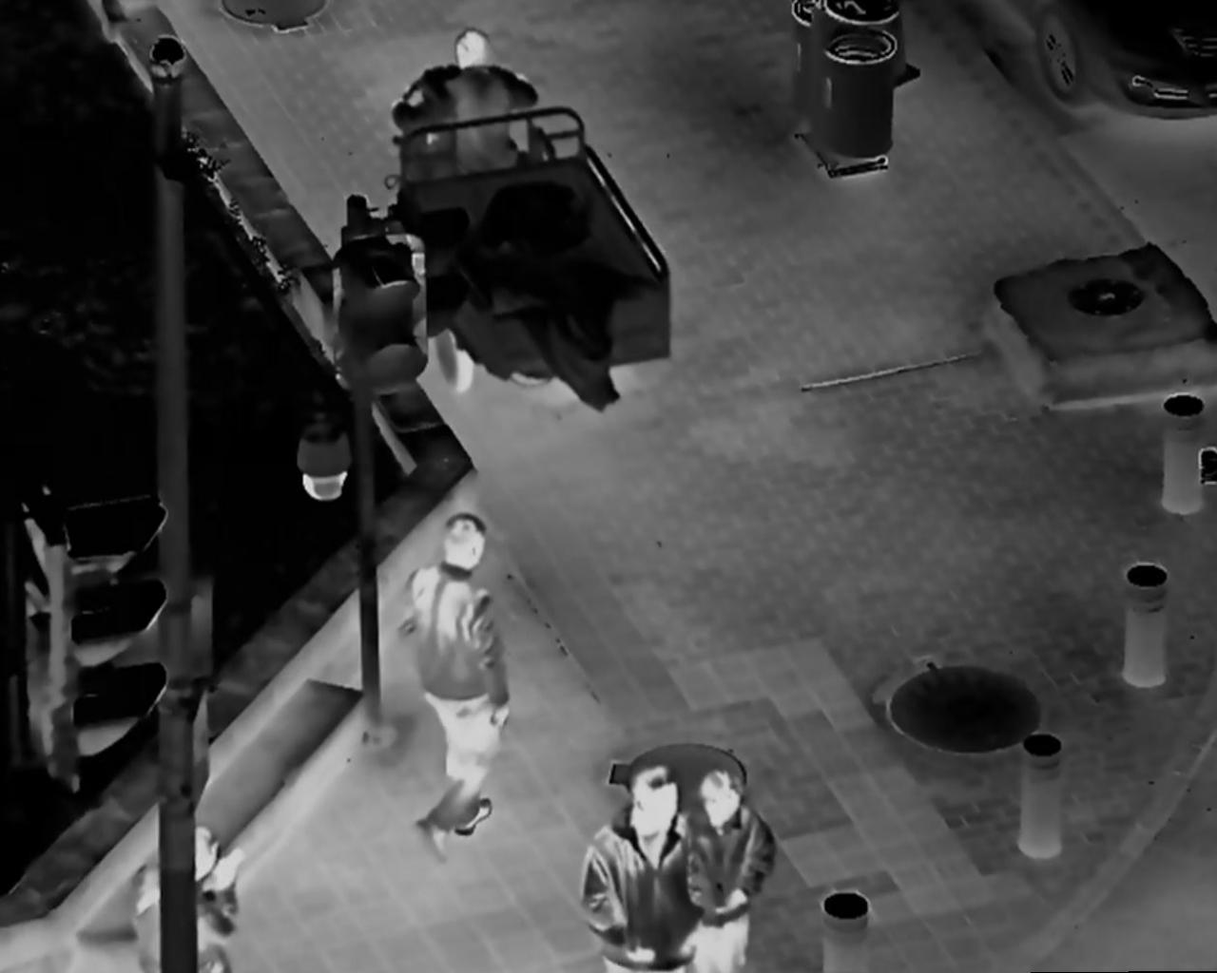person: (396, 503, 517, 868), (390, 21, 539, 192), (579, 766, 695, 973), (679, 767, 778, 973), (141, 820, 238, 971)
